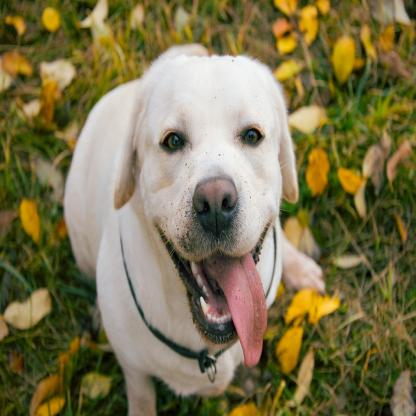dog: (64, 44, 298, 416)
